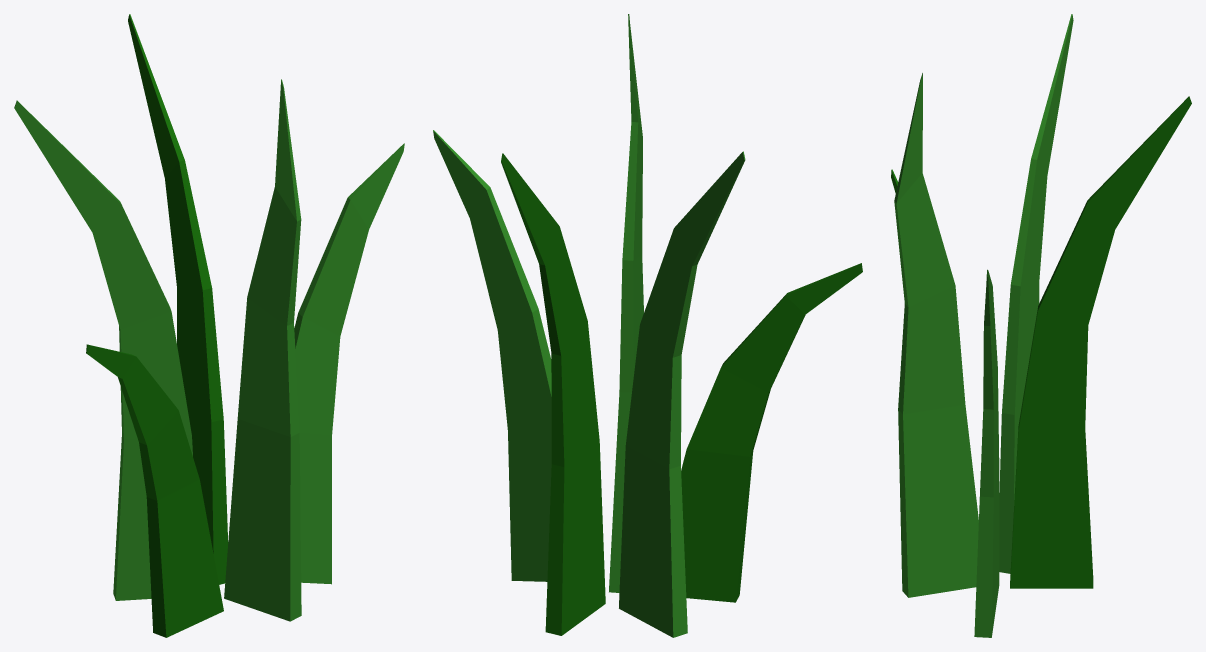
The model's file is Grass(2).fbx.
3 views of the same model, side by side, from view 1: azimuth 30°, elevation 25°; view 2: azimuth 150°, elevation 25°; view 3: azimuth 270°, elevation 25° (orthographic). The views are drawn at different scales.
Visible parts, largest first — view 1: Grass(2); view 2: Grass(2); view 3: Grass(2).
Part boxes in pixels (x1,y1,x2,y2): Grass(2): (14, 14, 404, 637); Grass(2): (433, 14, 862, 637); Grass(2): (891, 14, 1191, 637).
Size of the model in its own units: 0.4666 by 0.6589 by 0.3402.
